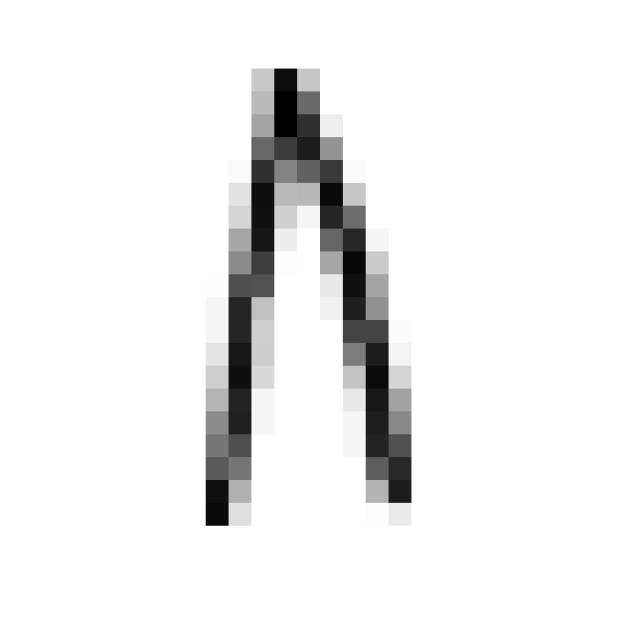8 -eight-: (178, 46, 427, 546)
